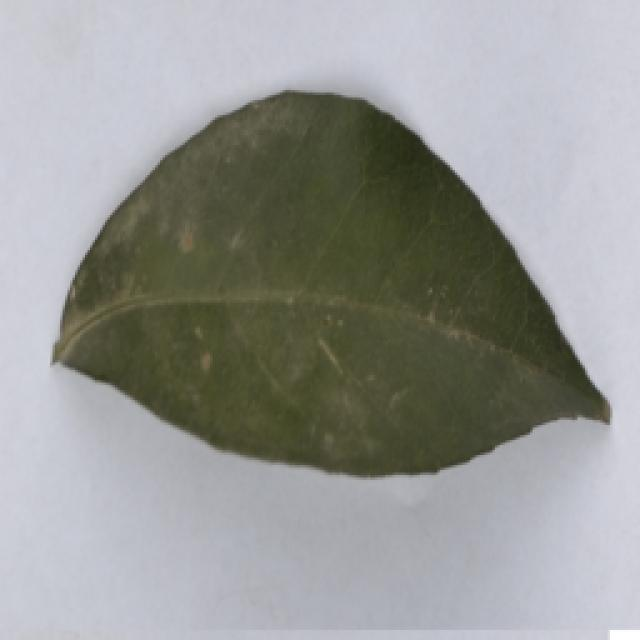healthy: (45, 83, 616, 487)
